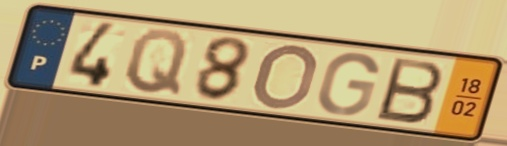4: (64, 20, 118, 90)
8: (192, 34, 253, 104)
B: (374, 55, 447, 127)
G: (314, 50, 382, 118)
O: (249, 41, 322, 112)
Q: (122, 27, 191, 98)
